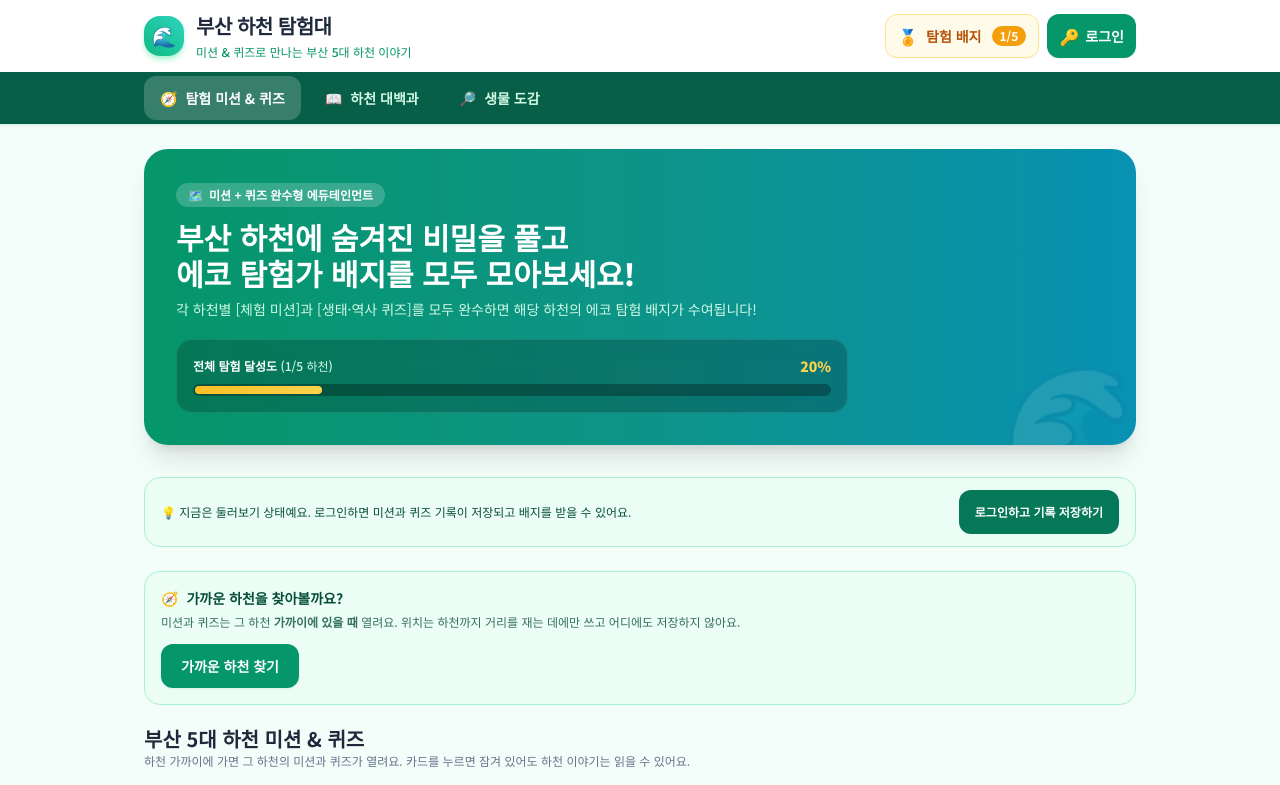
Test case: BadgeModal (HomeScreen에서 열기) › 5개 배지를 모두 보여주고 획득한 것만 날짜를 붙인다
The width and height of the screenshot is (1280, 785).
Click the button "🏅 탐험 배지 1/5" at coordinates (962, 36), box [885,14,1039,58]
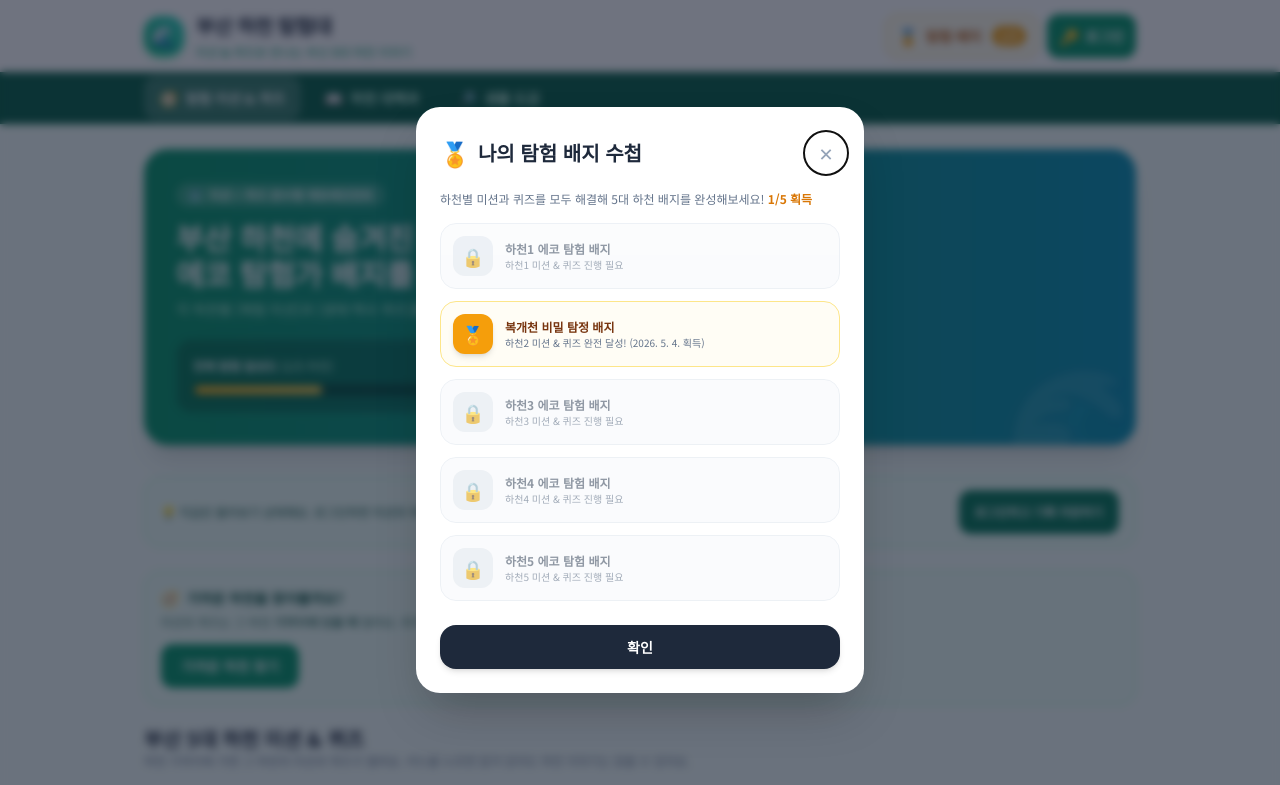
Check: the dialog is shown, box [416,107,864,693]
Check: the dialog shows "획득", box [787,190,812,207]
